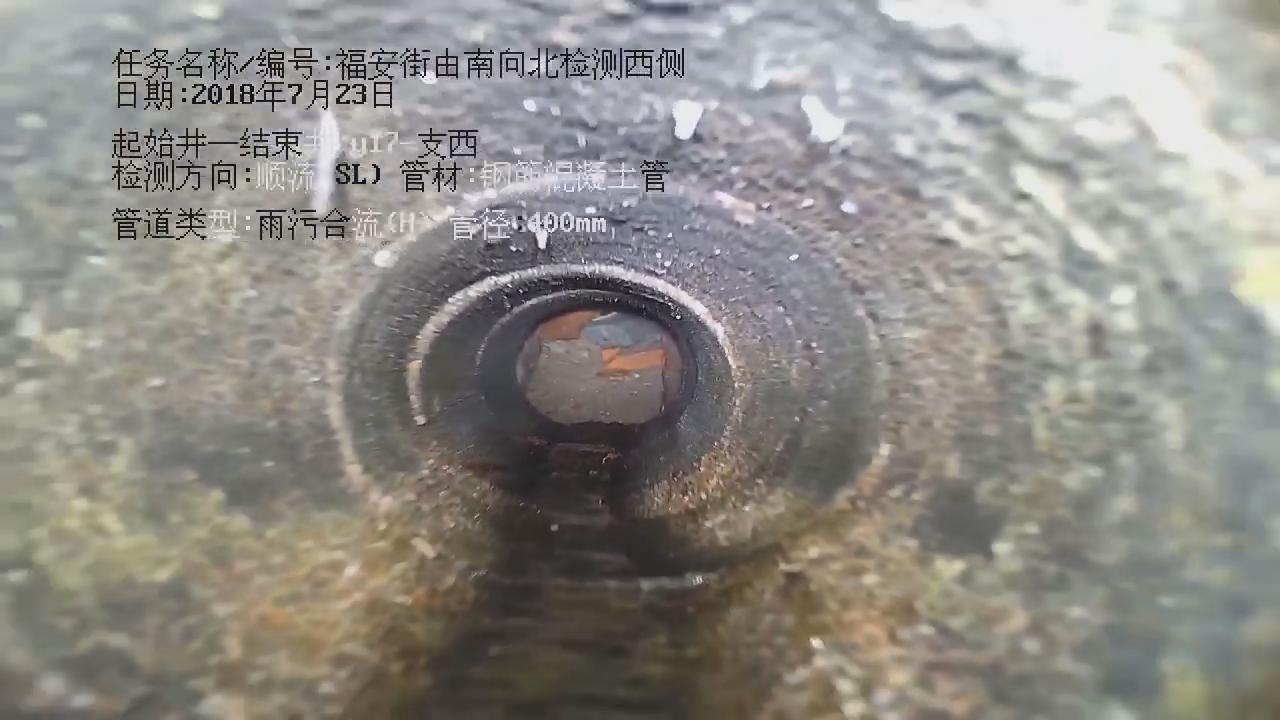CKTJ: (405, 263, 743, 426), (482, 289, 619, 353)
CQBG: (517, 307, 685, 425)
